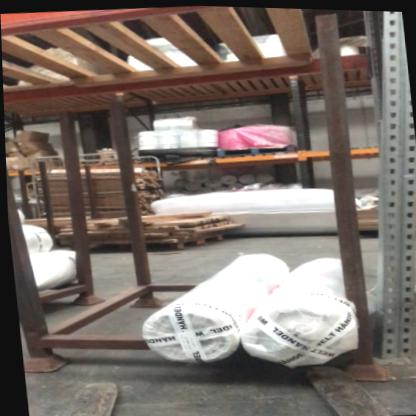vertical_damage: (365, 335, 416, 373)
